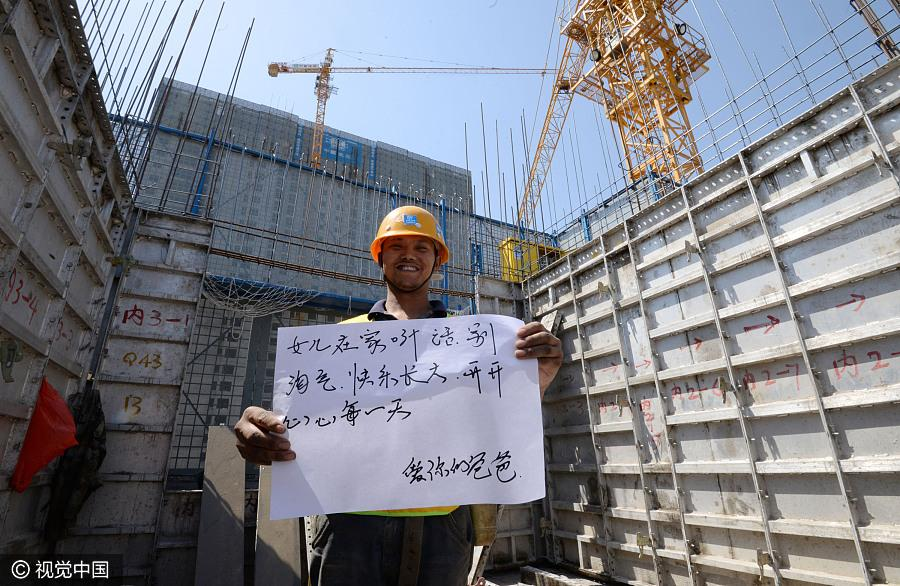helmet: (368, 205, 452, 273)
